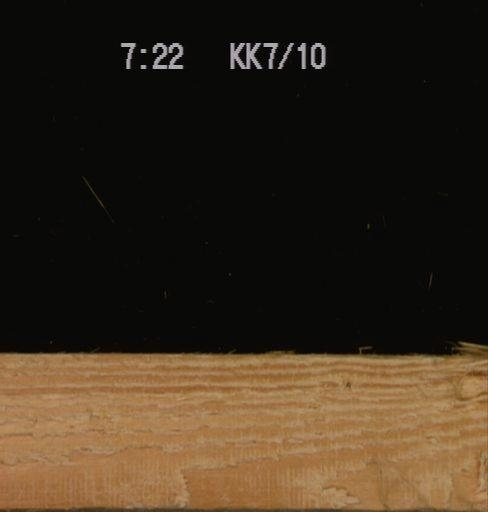small_knot: (339, 374, 360, 393)
